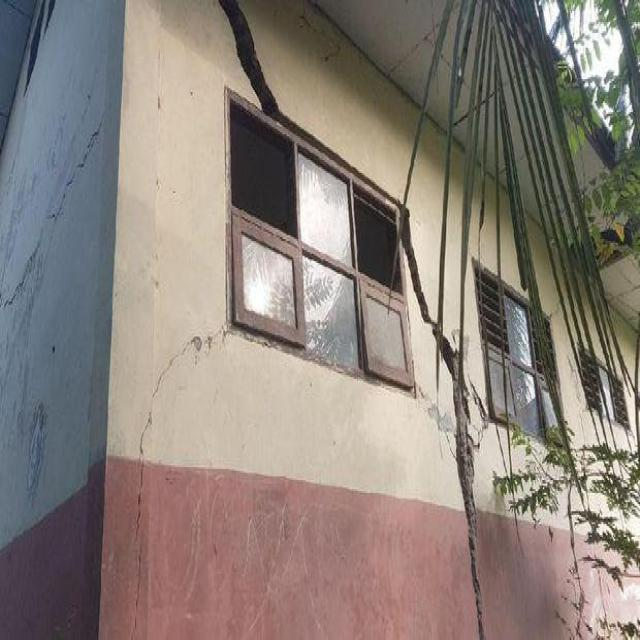crack: (438, 329, 484, 638), (215, 0, 282, 119), (394, 197, 437, 332), (467, 369, 493, 452)
